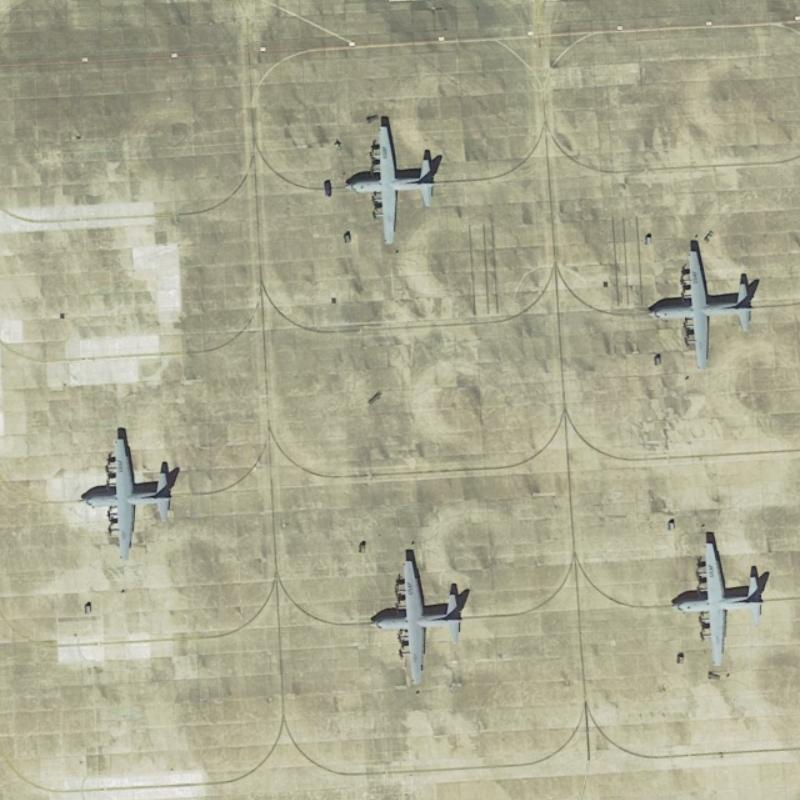A2: (644, 244, 756, 372), (363, 556, 466, 686), (665, 538, 766, 668), (75, 434, 176, 561), (338, 121, 438, 248)
